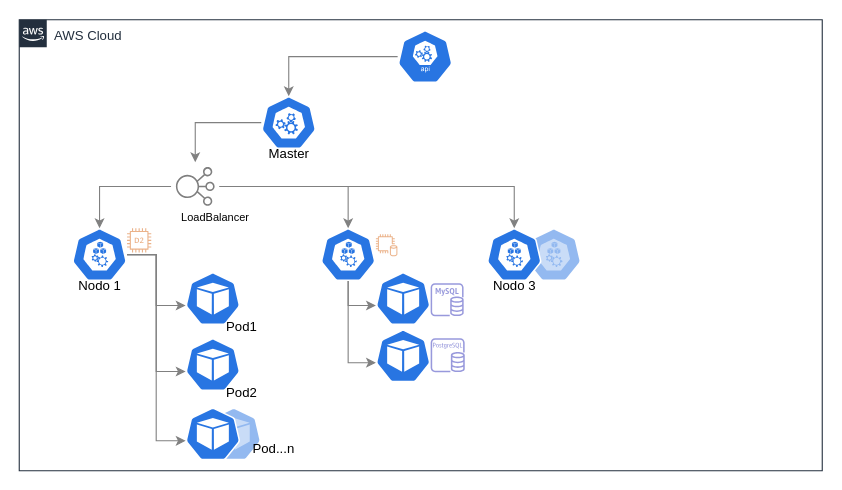
Some shapes in this 842 by 490 pixel diagram are drawn without their labels. Each missing label, with the centre of its shape:
.....n: pixel 553 254
Nodo 2: pixel 348 254
